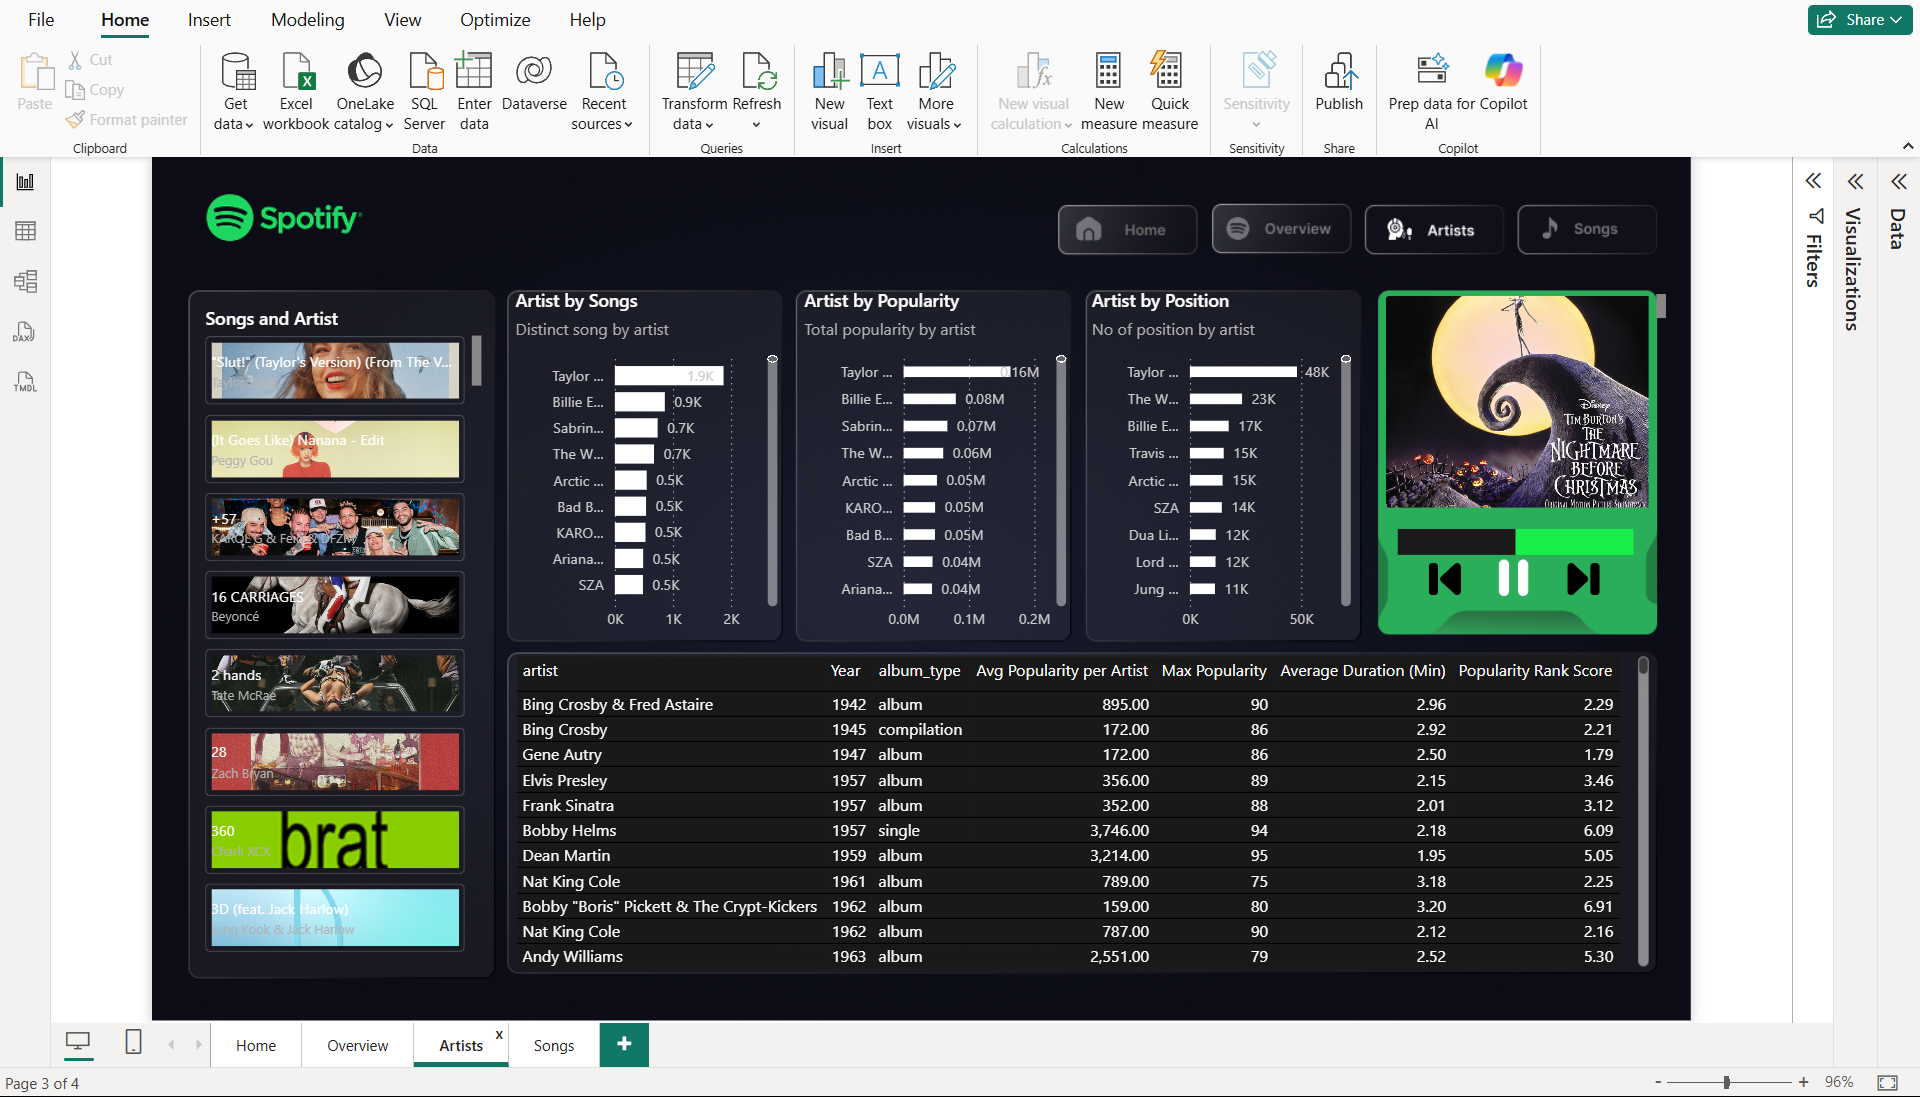

The dashboard page shown, as its layout file describes it:
{"tool":"powerbi","page":{"name":"Artists","canvas":[1280,720],"ordinal":2},"visuals":[{"type":"actionButton","box":[754.9,38.8,114,39.5],"z":0},{"type":"actionButton","box":[882.8,38.8,114,39.5],"z":1000},{"type":"actionButton","box":[1008.4,38.8,114,39.5],"z":2000},{"type":"actionButton","box":[1136.3,37.7,114,41.9],"z":3000},{"type":"advancedSlicerVisual","title":"Songs and Artist","fields":{"Values":["Top-50-World.song"],"Label":["Min(Top-50-World.release_date)"]},"box":[39.5,123.3,239.5,545.4],"z":4000},{"type":"tableEx","fields":{"Values":["Top-50-World.artist","Top-50-World.release_date.Variation.Date Hierarchy.Year","Top-50-World.album_type","Top-50-World.Avg Popularity per Artist","Top-50-World.Max Popularity","Top-50-World.Average Duration (Min)","Top-50-World.Popularity Rank Score"]},"box":[297.7,410.5,952.3,267.4],"z":5000},{"type":"clusteredBarChart","title":" Artist by  Songs ","fields":{"Category":["Top-50-World.artist"],"Y":["CountNonNull(Top-50-World.song)"]},"box":[297.7,109.3,227.9,293],"z":6000},{"type":"clusteredBarChart","title":" Artist by  Popularity","fields":{"Y":["Sum(Top-50-World.popularity)"],"Category":["Top-50-World.artist"]},"box":[537.2,109.3,227.9,293],"z":7000},{"type":"clusteredBarChart","title":" Artist by  Position","fields":{"Category":["Top-50-World.artist"],"Y":["Sum(Top-50-World.position)"]},"box":[776.7,109.3,225.6,293],"z":8000},{"type":"hundredPercentStackedBarChart","fields":{"Y":["Avg(Top-50-World.popularity)","Top-50-World.Average Popularity"]},"box":[1031.5,284.6,206,65.7],"z":9000},{"type":"image","box":[1170,335.4,40,30],"z":10000},{"type":"image","box":[1112.5,335.1,40,30.3],"z":11000},{"type":"image","box":[1054.9,335.4,40,30],"z":12000},{"type":"advancedSlicerVisual","fields":{"Values":["Top-50-World.album_cover_url"]},"box":[1019.9,109.5,244.7,188],"z":13000},{"type":"shape","box":[1004.4,104.3,260.1,298.8],"z":14000}]}

Visuals, with their boxes on the page's 1280x720 design canvas (x1, y1, x2, y2). These are canvas units, not pixel positions in the 1920x1097 screenshot, which may show the page scaled, cropped or inside an application window:
actionButton: 755:39:869:78
actionButton: 883:39:997:78
actionButton: 1008:39:1122:78
actionButton: 1136:38:1250:80
"Songs and Artist" advancedSlicerVisual: 40:123:279:669
tableEx - Top-50-World.artist x Top-50-World.release_date.Variation.Date Hierarchy.Year: 298:410:1250:678
" Artist by  Songs " clusteredBarChart: 298:109:526:402
" Artist by  Popularity" clusteredBarChart: 537:109:765:402
" Artist by  Position" clusteredBarChart: 777:109:1002:402
hundredPercentStackedBarChart - Avg(Top-50-World.popularity) x Top-50-World.Average Popularity: 1032:285:1238:350
image: 1170:335:1210:365
image: 1112:335:1152:365
image: 1055:335:1095:365
advancedSlicerVisual - Top-50-World.album_cover_url: 1020:110:1265:298
shape: 1004:104:1264:403
